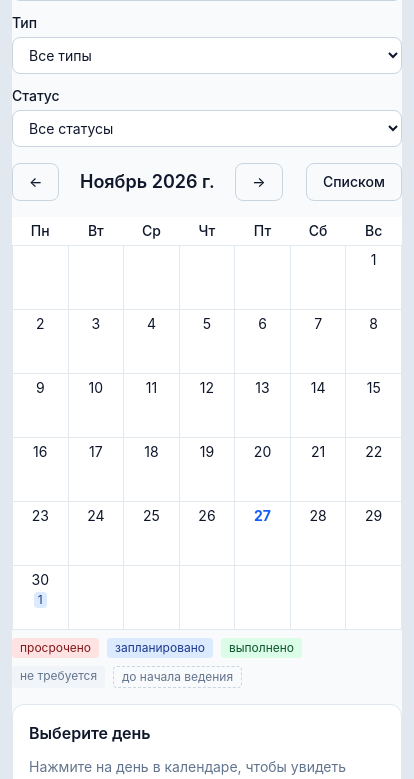
Test: календарь › показывает сетку месяца и задачи выбранного дня
Expected: the heading "Ноябрь 2026 г." is shown, [80,171,215,192]
Click the button named "30.11.2026: задач 1" at x=40, y=598, box [13,566,68,629]
(page scrolled)
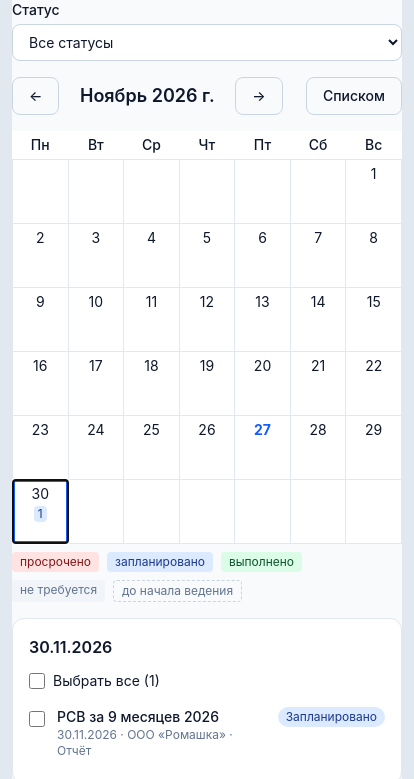
Now the text "РСВ за 9 месяцев 2026" is shown, box [57,708,219,725]
